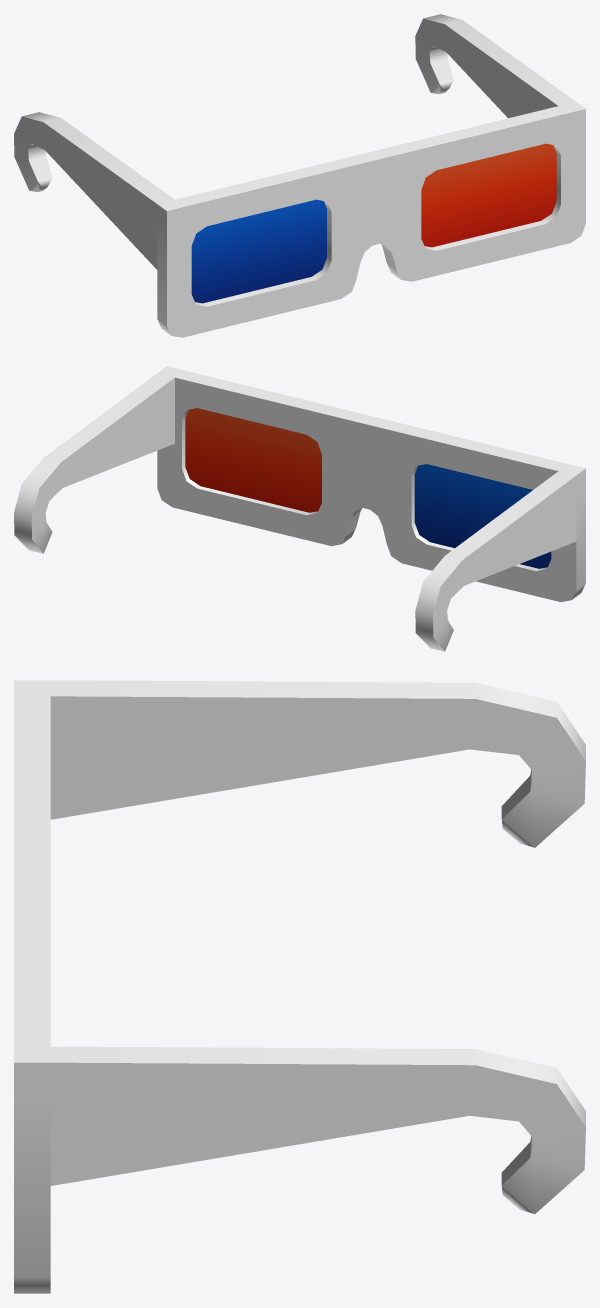
The model's file is 3dGlasses.glb.
3 renders of one model, top to bottom at view 1: azimuth 30°, elevation 25°; view 2: azimuth 150°, elevation 25°; view 3: azimuth 270°, elevation 25°, orthographic. The views are drawn at different scales.
Parts seen in each view (by area): view 1: Collectable_3D_Glass_01; view 2: Collectable_3D_Glass_01; view 3: Collectable_3D_Glass_01.
Part boxes in pixels (left/top/right/bottom): Collectable_3D_Glass_01: left=14, top=14, right=585, bottom=337; Collectable_3D_Glass_01: left=14, top=366, right=585, bottom=651; Collectable_3D_Glass_01: left=14, top=680, right=585, bottom=1293.
Bounding box in the file's own units: 0.92 × 0.2736 × 0.5815.
Materials: 1 (1 with a texture image).
